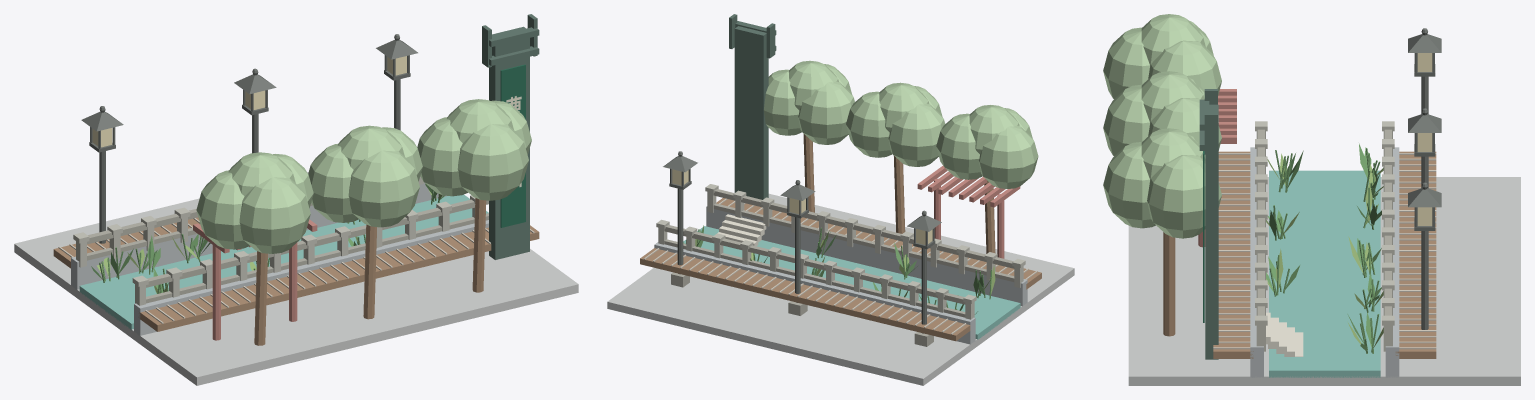
File: dot-P03.glb
The picture shows the model from 3 angles, left to right: view 1: azimuth 30°, elevation 25°; view 2: azimuth 150°, elevation 25°; view 3: azimuth 270°, elevation 25°; orthographic projection. The views are drawn at different scales.
Visible parts, largest first — view 1: P03_pave; view 2: P03_pave; view 3: P03_pave.
Part boxes in pixels (x1,y1,x2,y2): P03_pave: [14, 14, 578, 385]; P03_pave: [607, 14, 1074, 385]; P03_pave: [1103, 14, 1520, 385].
Bounding box in the file's own units: 5.92 × 3.7 × 5.23.
2 materials, 2 textured.
